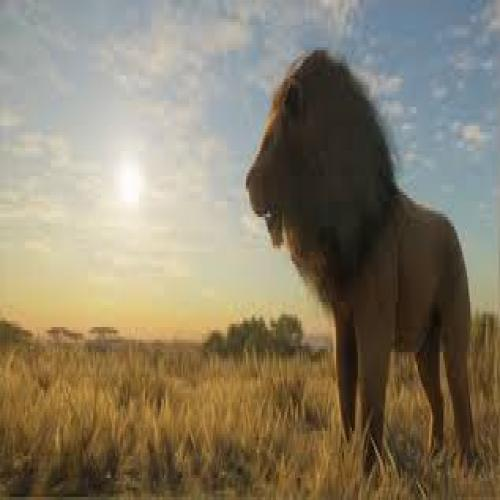lion-endangered: (245, 48, 477, 474)
